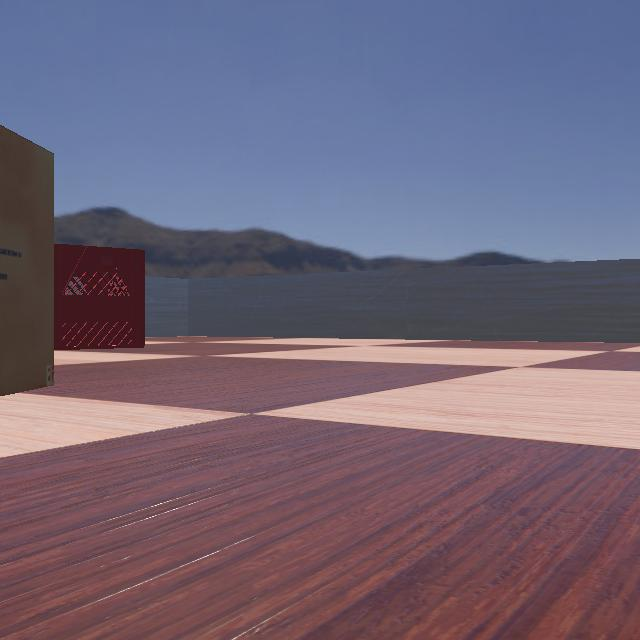cardboard-box: (0, 16, 54, 438), (0, 16, 54, 438)
plastic-crate: (0, 242, 162, 350)
